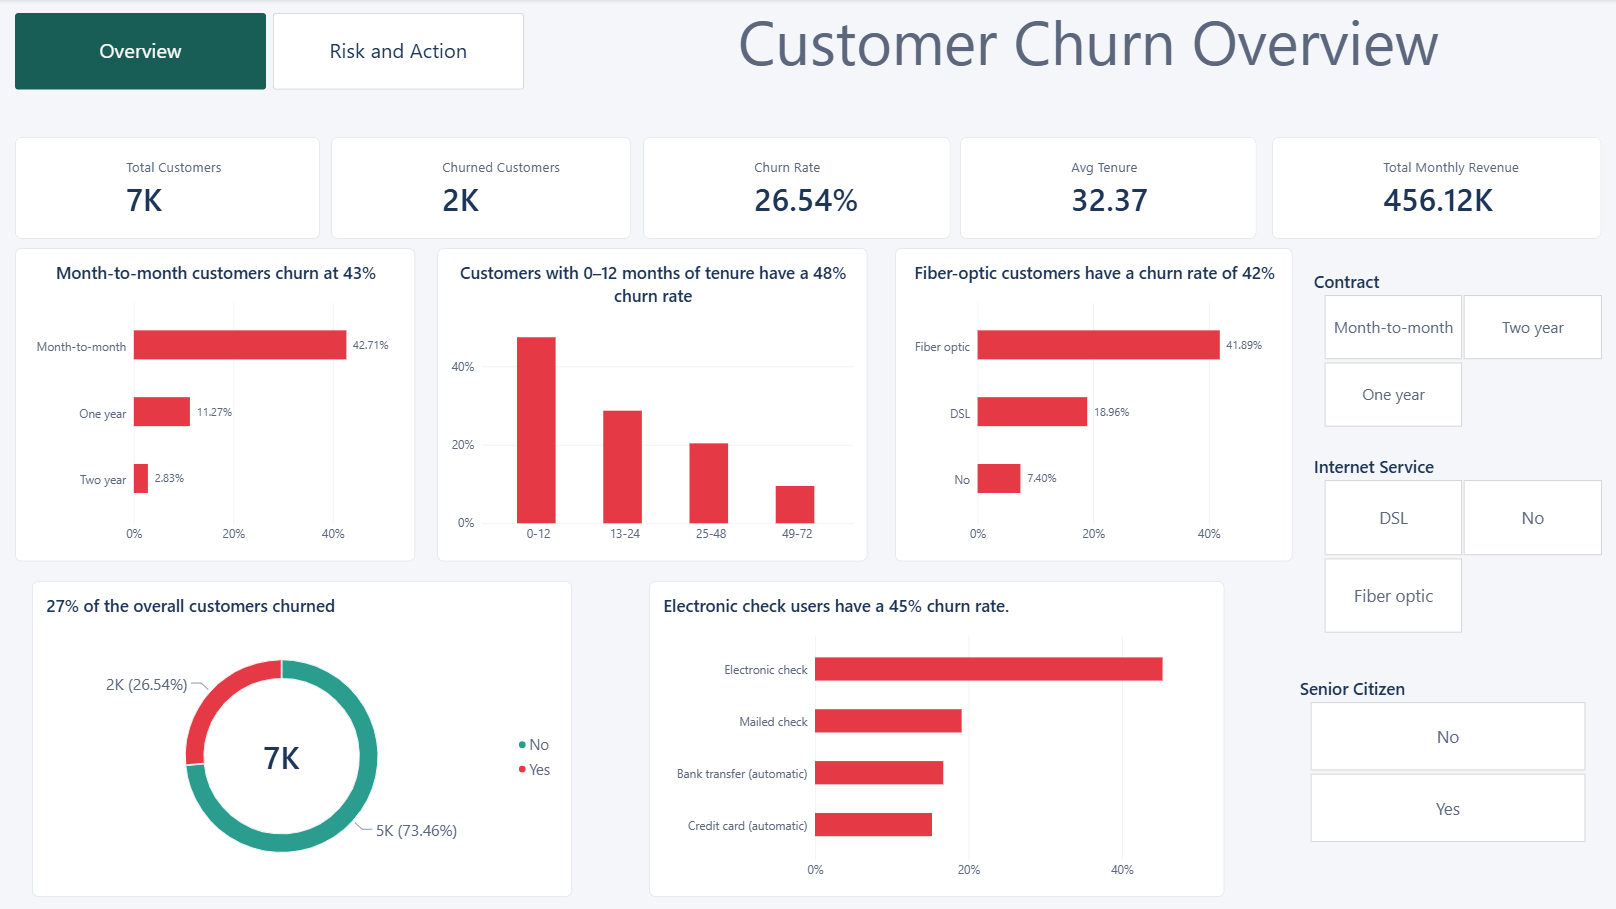

Layout of this report page (visuals, bound fields, positions):
{"tool":"powerbi","page":{"name":"Overview","canvas":[1920,1080],"ordinal":0},"visuals":[{"type":"cardVisual","fields":{"Data":["telco_customers.Total Customers"]},"box":[18,163.4,362.7,121.4],"z":0},{"type":"cardVisual","fields":{"Data":["telco_customers.Churned Customers"]},"box":[392.7,163.4,356.7,121.4],"z":1000},{"type":"cardVisual","fields":{"Data":["telco_customers.Churn Rate"]},"box":[762.9,163.4,365.7,121.4],"z":2000},{"type":"cardVisual","fields":{"Data":["telco_customers.Avg Tenure"]},"box":[1139.1,163.4,352.2,121.4],"z":3000},{"type":"cardVisual","fields":{"Data":["telco_customers.Total Monthly Revenue"]},"box":[1509.3,163.4,391.2,121.4],"z":4000},{"type":"clusteredBarChart","title":"Month-to-month customers churn at 43%","fields":{"Category":["telco_customers.contract"],"Y":["telco_customers.Churn Rate"]},"box":[18,295.3,475.1,371.7],"z":4001},{"type":"clusteredColumnChart","title":"Customers with 0–12 months of tenure have a 48% churn rate","fields":{"Category":["telco_customers.tenuregroup"],"Y":["telco_customers.Churn Rate"]},"box":[518.6,295.3,511.1,371.7],"z":4002},{"type":"clusteredBarChart","title":"Fiber-optic customers have a churn rate of 42%","fields":{"Category":["telco_customers.internetservice"],"Y":["telco_customers.Churn Rate"]},"box":[1062.7,295.3,472.1,371.7],"z":4003},{"type":"clusteredBarChart","title":"Electronic check users have a 45% churn rate.","fields":{"Category":["telco_customers.paymentmethod"],"Y":["telco_customers.Churn Rate"]},"box":[770.4,691,683.5,374.7],"z":4004},{"type":"donutChart","title":"27% of the overall customers churned","fields":{"Category":["telco_customers.churn"],"Y":["telco_customers.Total Customers"]},"box":[37.5,691,641.5,374.7],"z":4005},{"type":"slicer","fields":{"Values":["telco_customers.contract"]},"box":[1551.3,320.7,368.7,188.9],"z":4006},{"type":"slicer","fields":{"Values":["telco_customers.internetservice"]},"box":[1551.3,539.6,368.7,214.3],"z":4007},{"type":"slicer","fields":{"Values":["telco_customers.seniorcitizen"]},"box":[1534.8,803.4,365.7,199.3],"z":4008},{"type":"pageNavigator","box":[18,16.5,605.5,91.4],"z":4009},{"type":"textbox","box":[875.3,0,992.2,119.9],"z":4010}]}

Visuals, with their boxes in screenshot pixels (x1, y1, x2, y2), scaled from the page's 1920x1080 canvas onto the 1616x909 screenshot:
cardVisual - telco_customers.Total Customers: (left=15, top=138, right=320, bottom=240)
cardVisual - telco_customers.Churned Customers: (left=331, top=138, right=631, bottom=240)
cardVisual - telco_customers.Churn Rate: (left=642, top=138, right=950, bottom=240)
cardVisual - telco_customers.Avg Tenure: (left=959, top=138, right=1255, bottom=240)
cardVisual - telco_customers.Total Monthly Revenue: (left=1270, top=138, right=1600, bottom=240)
"Month-to-month customers churn at 43%" clusteredBarChart: (left=15, top=249, right=415, bottom=561)
"Customers with 0–12 months of tenure have a 48% churn rate" clusteredColumnChart: (left=436, top=249, right=867, bottom=561)
"Fiber-optic customers have a churn rate of 42%" clusteredBarChart: (left=894, top=249, right=1292, bottom=561)
"Electronic check users have a 45% churn rate." clusteredBarChart: (left=648, top=582, right=1224, bottom=897)
"27% of the overall customers churned" donutChart: (left=32, top=582, right=571, bottom=897)
slicer - telco_customers.contract: (left=1306, top=270, right=1615, bottom=429)
slicer - telco_customers.internetservice: (left=1306, top=454, right=1615, bottom=635)
slicer - telco_customers.seniorcitizen: (left=1292, top=676, right=1600, bottom=844)
pageNavigator: (left=15, top=14, right=525, bottom=91)
textbox: (left=737, top=0, right=1572, bottom=101)
